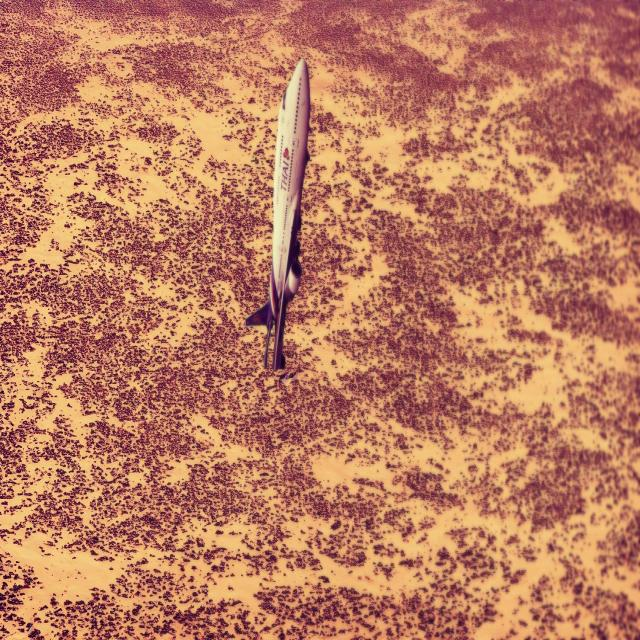airplane: (244, 56, 311, 371)
